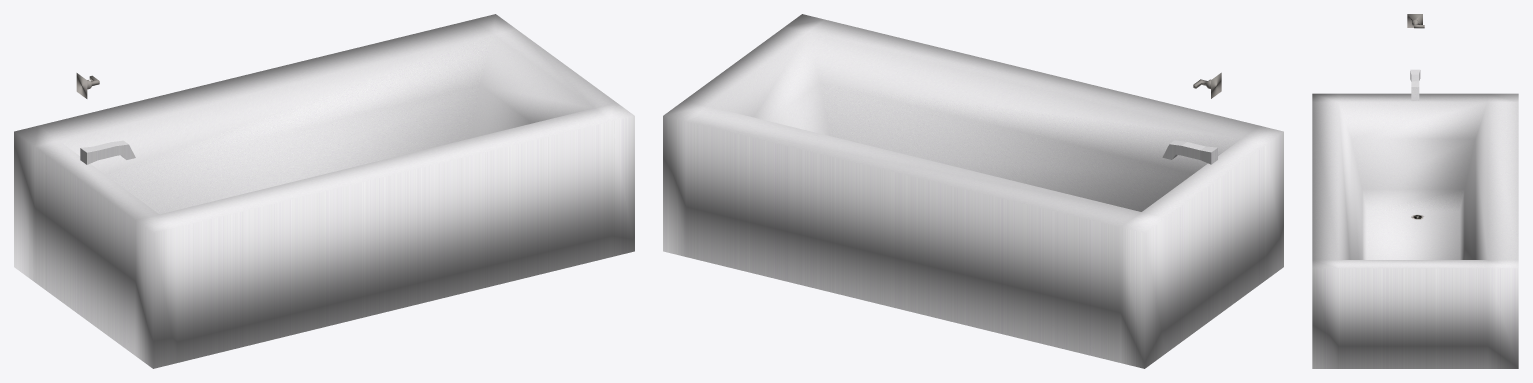
File: bathtub.glb
3 views of the same model, side by side, from view 1: azimuth 30°, elevation 25°; view 2: azimuth 150°, elevation 25°; view 3: azimuth 270°, elevation 25° (orthographic). The views are drawn at different scales.
Visible parts, largest first — view 1: Bathtub; view 2: Bathtub; view 3: Bathtub.
Part boxes in pixels (<box>): Bathtub: <box>14,14,634,368</box>; Bathtub: <box>663,14,1283,368</box>; Bathtub: <box>1312,14,1518,368</box>.
Size of the model in its own units: 2.41 by 1.15 by 1.2.
1 material, 1 textured.
